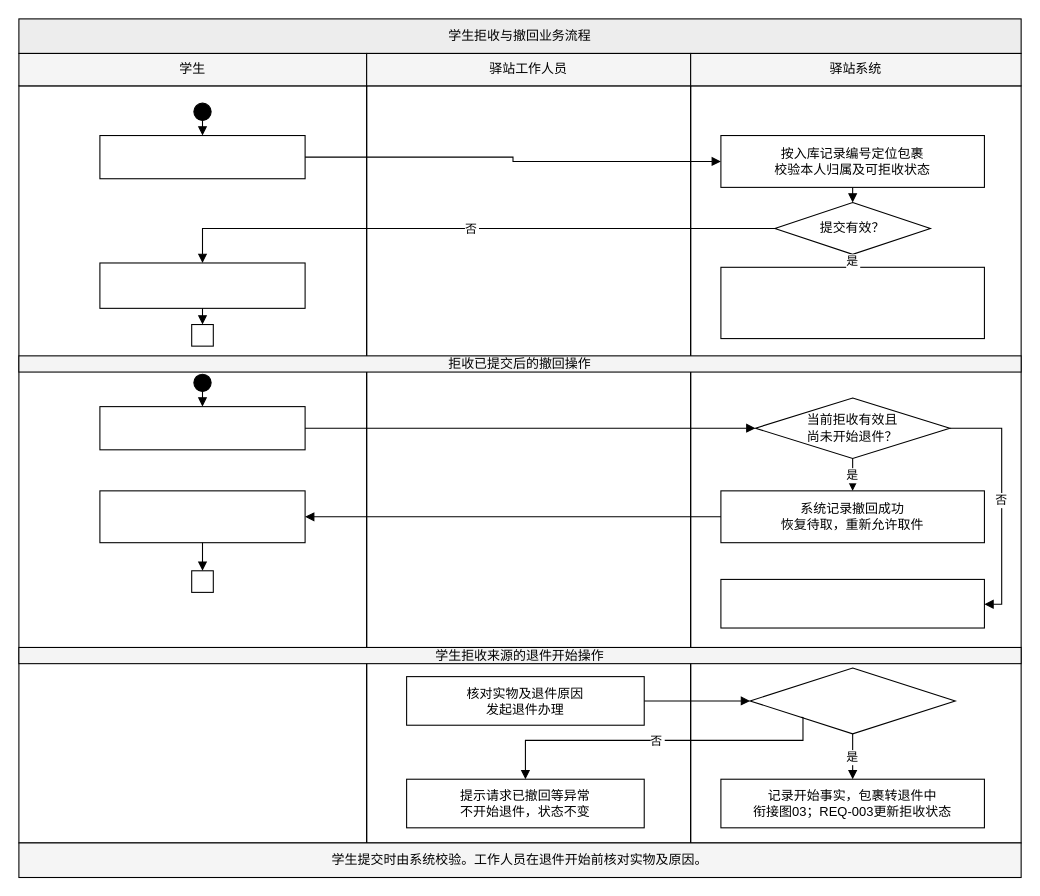
This 1040x896 diagram has some shape labels left out. The centre of each missing label's shape, as x and y in pixels:
"学生提交撤回拒收" belongs at pixel 202 428.
"当前拒收有效 且未撤回？" belongs at pixel 852 700.
"显示提交失败 包裹状态不变" belongs at pixel 202 285.
"显示撤回成功 包裹恢复待取" belongs at pixel 202 516.
"系统拒绝撤回 维持当前业务状态" belongs at pixel 852 603.
"记录有效拒收申请 立即暂停取件 标记“拒收待退件”" belongs at pixel 852 302.
"选择本人包裹并提交拒收" belongs at pixel 202 156.
